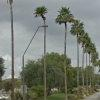Palm tree: (33, 5, 89, 90)
